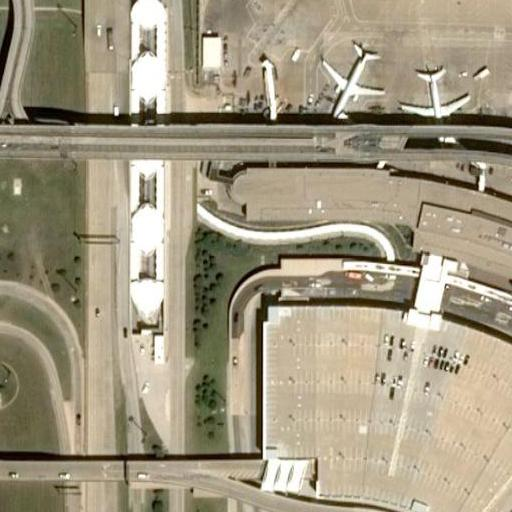Aircraft: (308, 29, 388, 122), (397, 56, 474, 123)
